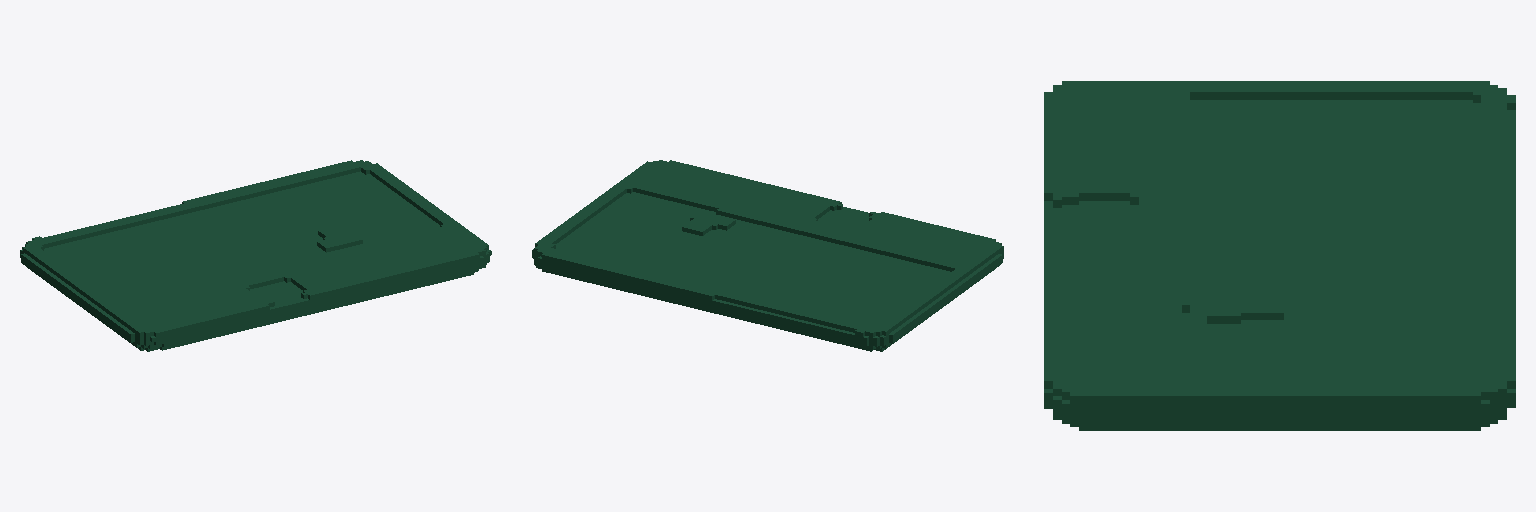
robot.urdf — physxnet_10130_strict:
<?xml version='1.0' encoding='utf-8'?>
<robot name="physxnet_10130_strict">
  <link name="l_world">
    <inertial>
      <origin xyz="0 0 0" rpy="0 0 0" />
      <mass value="0.0100000000" />
      <inertia ixx="0.0000001667" ixy="0.0" ixz="0.0" iyy="0.0000001667" iyz="0.0" izz="0.0000001667" />
    </inertial>
  </link><link name="l_0">
    <inertial>
      <origin xyz="0.0002507502 0.1058848514 0.0046570175" rpy="0 0 0" />
      <mass value="1.0663049240" />
      <inertia ixx="0.0041784728" ixy="0.0" ixz="0.0" iyy="0.0148952073" iyz="0.0" izz="0.0108671583" />
    </inertial><visual>
      <origin xyz="0 0 0" rpy="0 0 0" />
      <geometry>
        <mesh filename="../rigid_visuals/part_000_visual.obj" scale="1 1 1" />
      </geometry><material name="mat_l_0">
        <color rgba="0.32548 0.48041 0.93131 1.00000" />
      </material>
    </visual><collision>
      <origin xyz="0 0 0" rpy="0 0 0" />
      <geometry>
        <mesh filename="part_000_collision.obj" scale="1 1 1" />
      </geometry>
    </collision>
  </link><joint name="joint_fixed_l_world_l_0" type="fixed">
    <parent link="l_world" />
    <child link="l_0" />
    <origin xyz="0 0 0" rpy="0 0 0" />
  </joint><link name="l_1">
    <inertial>
      <origin xyz="-0.0009658564 -0.0124714694 -0.1040522526" rpy="0 0 0" />
      <mass value="0.0215155080" />
      <inertia ixx="0.0000837218" ixy="0.0" ixz="0.0" iyy="0.0002176750" iyz="0.0" izz="0.0003004862" />
    </inertial><visual>
      <origin xyz="0 0 0" rpy="0 0 0" />
      <geometry>
        <mesh filename="../rigid_visuals/part_001_visual.obj" scale="1 1 1" />
      </geometry><material name="mat_l_1">
        <color rgba="0.15447 0.35718 0.26453 1.00000" />
      </material>
    </visual><collision>
      <origin xyz="0 0 0" rpy="0 0 0" />
      <geometry>
        <mesh filename="part_001_collision.obj" scale="1 1 1" />
      </geometry>
    </collision>
  </link><joint name="joint_fixed_l_0_l_1" type="fixed">
    <parent link="l_0" />
    <child link="l_1" />
    <origin xyz="0 0 0" rpy="0 0 0" />
  </joint><link name="l_2">
    <inertial>
      <origin xyz="-0.0425005006 0.0357560464 -0.0995305057" rpy="0 0 0" />
      <mass value="0.0001811083" />
      <inertia ixx="0.0000000078" ixy="0.0" ixz="0.0" iyy="0.0000004430" iyz="0.0" izz="0.0000004505" />
    </inertial><visual>
      <origin xyz="0 0 0" rpy="0 0 0" />
      <geometry>
        <mesh filename="../rigid_visuals/part_002_visual.obj" scale="1 1 1" />
      </geometry><material name="mat_l_2">
        <color rgba="0.29417 0.82410 0.87988 1.00000" />
      </material>
    </visual><collision>
      <origin xyz="0 0 0" rpy="0 0 0" />
      <geometry>
        <mesh filename="part_002_collision.obj" scale="1 1 1" />
      </geometry>
    </collision>
  </link><joint name="joint_fixed_l_1_l_2" type="fixed">
    <parent link="l_1" />
    <child link="l_2" />
    <origin xyz="0 0 0" rpy="0 0 0" />
  </joint><link name="l_3">
    <inertial>
      <origin xyz="-0.0937250751 -0.0677996166 -0.0978738591" rpy="0 0 0" />
      <mass value="0.0001000000" />
      <inertia ixx="0.0000000005" ixy="0.0" ixz="0.0" iyy="0.0000000098" iyz="0.0" izz="0.0000000102" />
    </inertial><visual>
      <origin xyz="0 0 0" rpy="0 0 0" />
      <geometry>
        <mesh filename="../rigid_visuals/part_003_visual.obj" scale="1 1 1" />
      </geometry><material name="mat_l_3">
        <color rgba="0.55944 0.19916 0.68114 1.00000" />
      </material>
    </visual><collision>
      <origin xyz="0 0 0" rpy="0 0 0" />
      <geometry>
        <mesh filename="part_003_collision.obj" scale="1 1 1" />
      </geometry>
    </collision>
  </link><joint name="joint_fixed_l_2_l_3" type="fixed">
    <parent link="l_2" />
    <child link="l_3" />
    <origin xyz="0 0 0" rpy="0 0 0" />
  </joint>
</robot>

--- Facts derived from the render (not from the file) ---
3 views of the same robot in one strip: view 1: azimuth 30°, elevation 25°; view 2: azimuth 150°, elevation 25°; view 3: azimuth 270°, elevation 25° (orthographic).
Robot: physxnet_10130_strict — 5 links, 4 joints (4 fixed); root link l_world; default pose: all joints at 0.
Visible links, largest first — view 1: l_1; view 2: l_1; view 3: l_1.
Link boxes in pixels (bbox=[...]): l_1: bbox=[20, 160, 491, 351]; l_1: bbox=[532, 160, 1003, 351]; l_1: bbox=[1044, 81, 1515, 430].
Bounding box of the posed robot: 0.352 × 0.22 × 0.02 m (x, y, z).
Meshes: 4 distinct files referenced, 3 mesh visuals loaded (3 OBJ); not drawn: 1 (reference not matched to a file when rendering).
